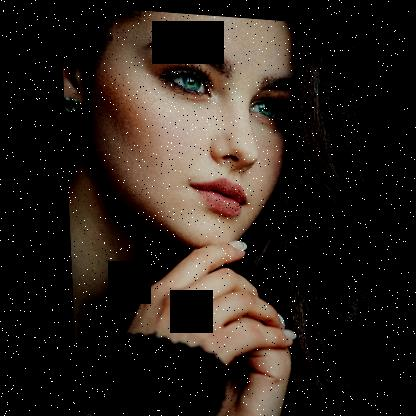Female: (59, 5, 302, 251)
